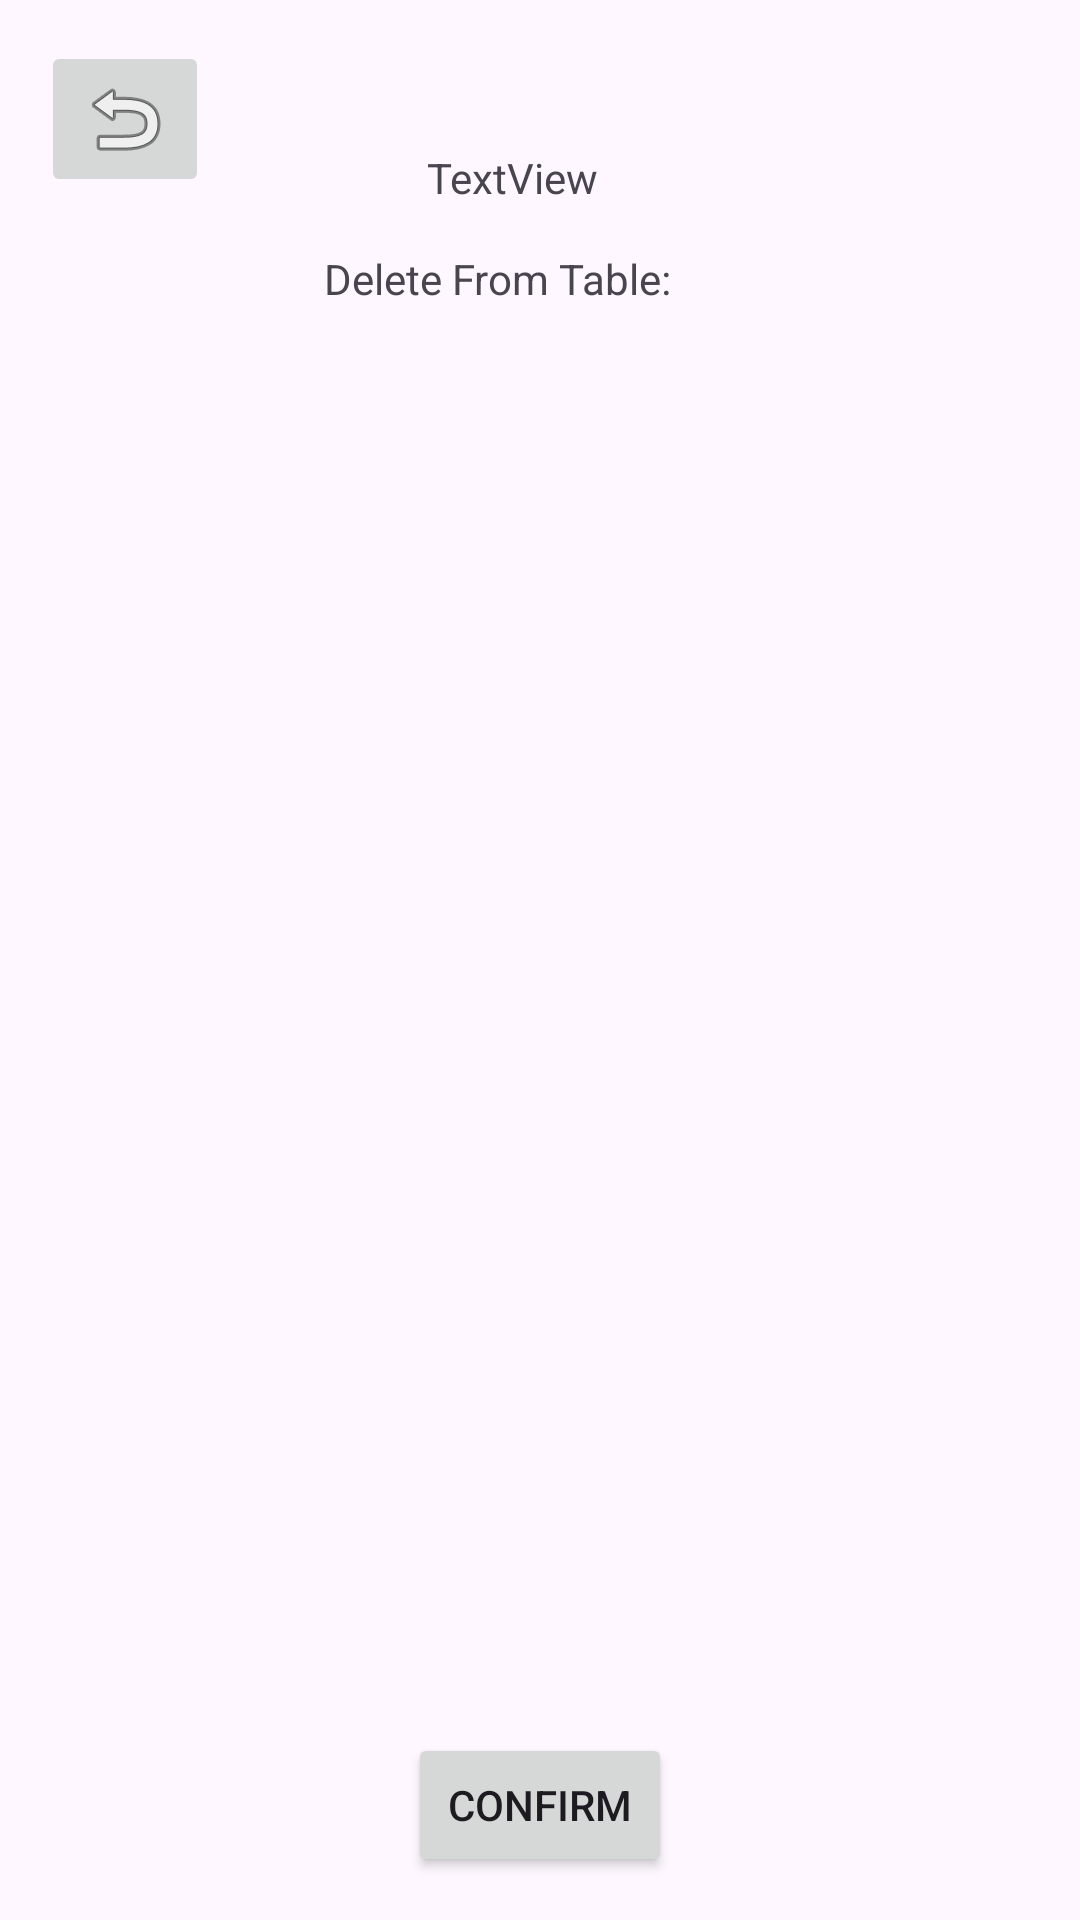

Point at icon controls on the screen. Image size 1080w x 1920h, points as [x,y].
revert: [125,119]
